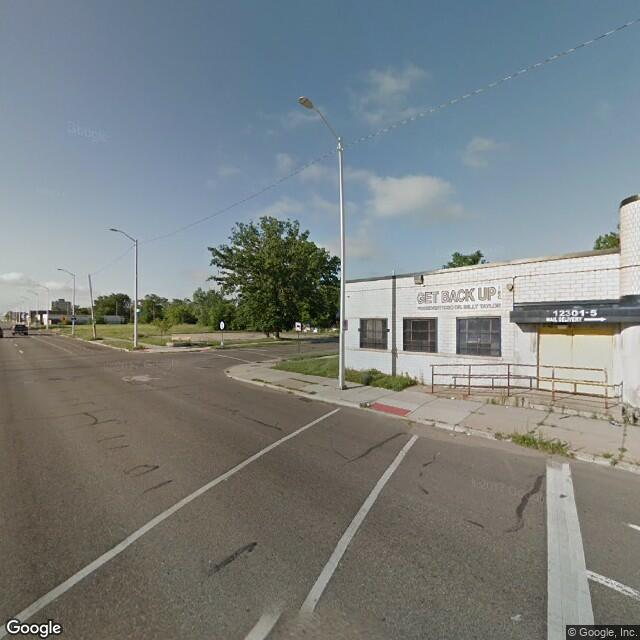litter: (460, 431, 472, 436), (447, 393, 459, 398)
